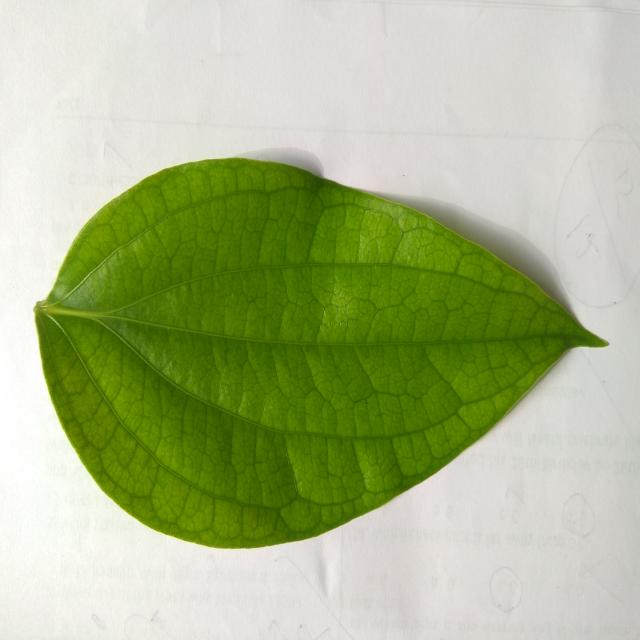pepper: (35, 158, 605, 548)
